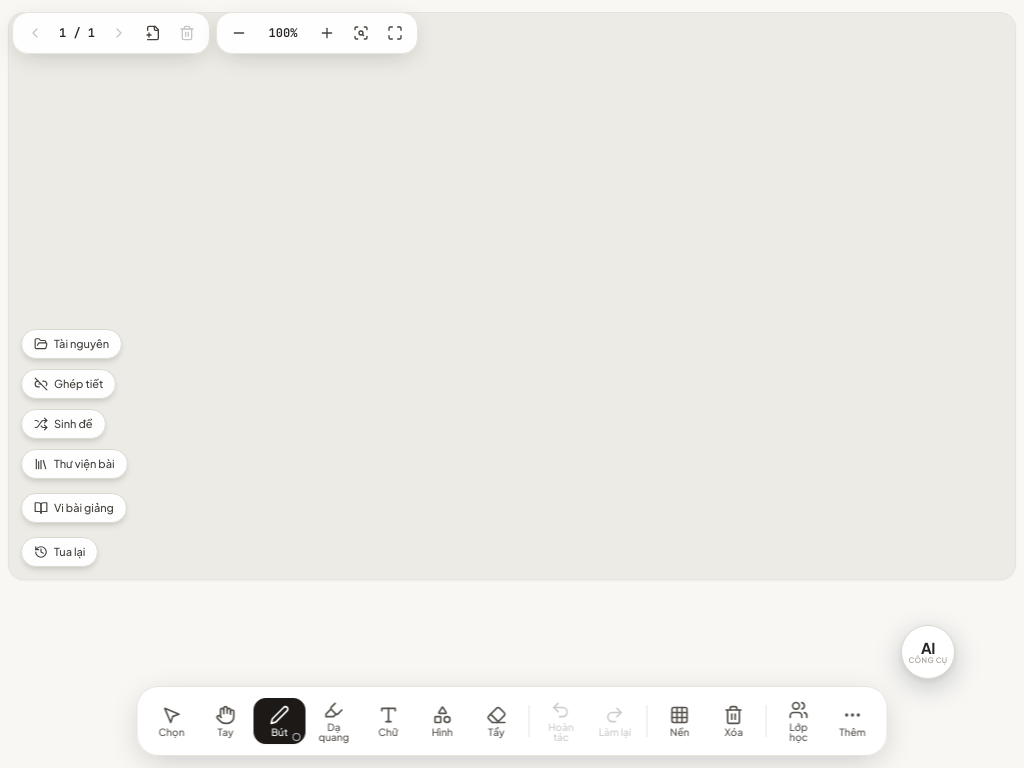
it: In-Place Geometry Transformation on Smartboard Canvas › Bật/Tắt Chế độ trực quan hình học tự động từ thanh tác vụ và hiển thị HUD banner
Note: Mở popover Hình
Step 1. Click the button with test id "tool-shape" → (442, 721), box [416,698,468,744]
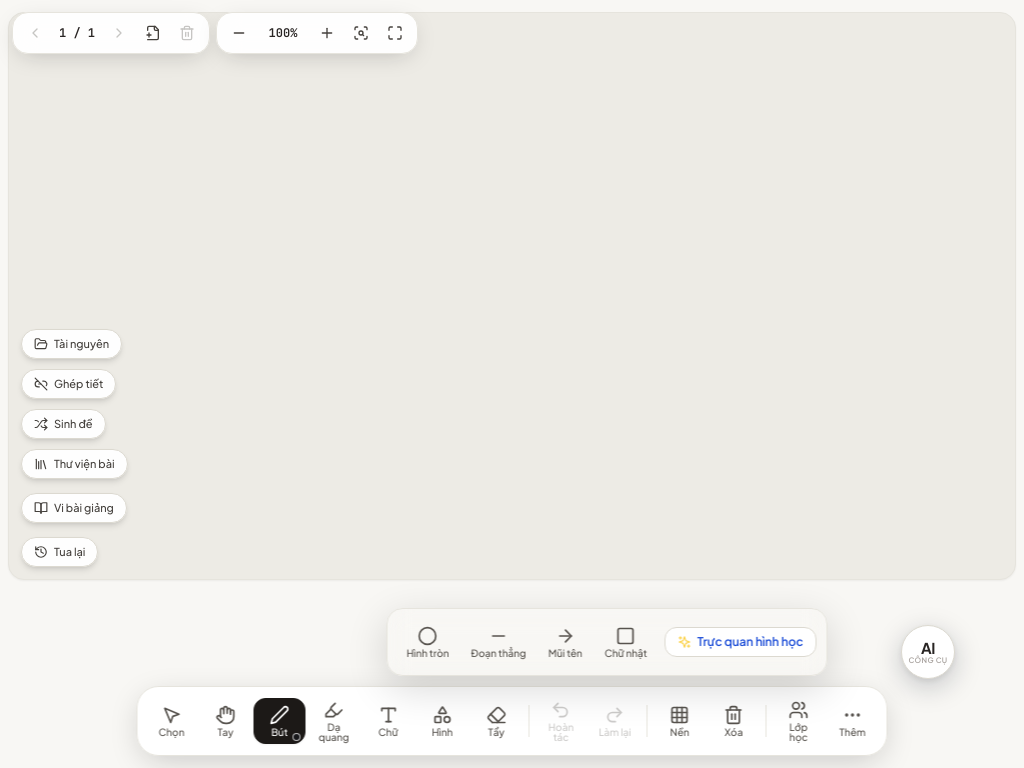
Expected: the button with test id "tool-geo-live-mode-toggle" is shown
Expected: the button with test id "tool-geo-live-mode-toggle" reads "Trực quan hình học"
Note:  Bấm BẬT
Step 2. Click the button with test id "tool-geo-live-mode-toggle" → (740, 642), box [664,627,816,657]
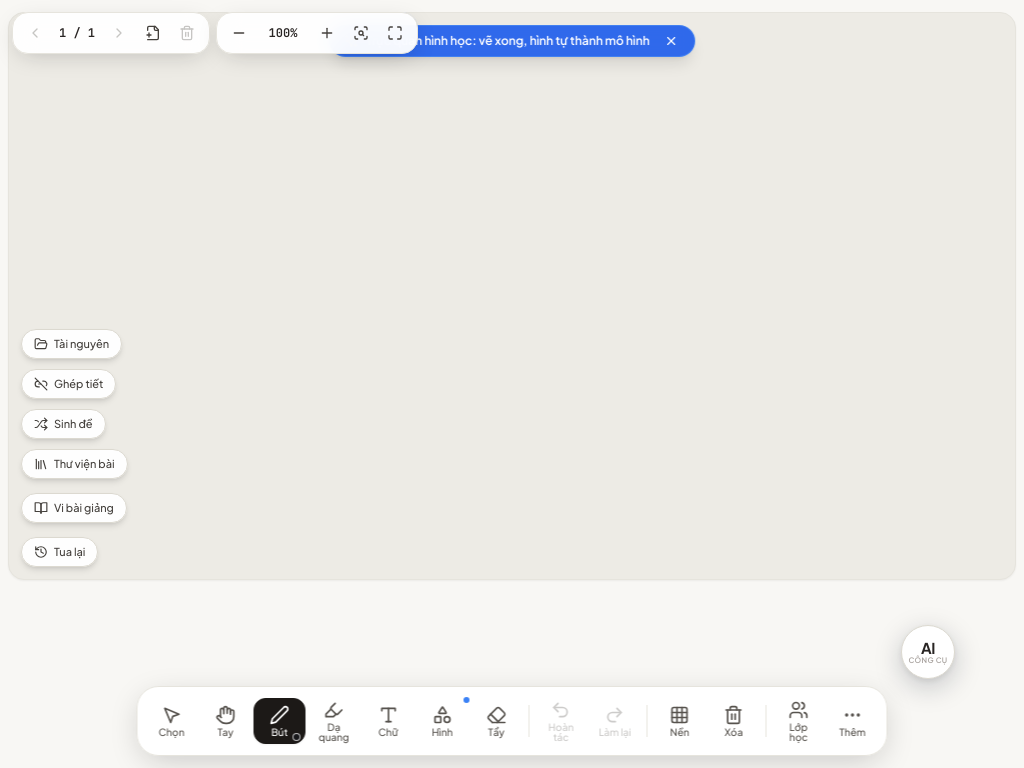
Expected: the element with test id "geo-live-mode-badge" is shown, [329,25,695,57]
Expected: the element with test id "geo-live-mode-badge" shows "Trực quan hình học", [366,33,650,48]
Expected: the element with test id "dock-geo-live-indicator" is shown, [461,695,471,705]
Note: Bấm tắt từ nút X trên banner
Step 3. Click the button with test id "geo-live-mode-close" → (671, 41), box [662,32,680,50]
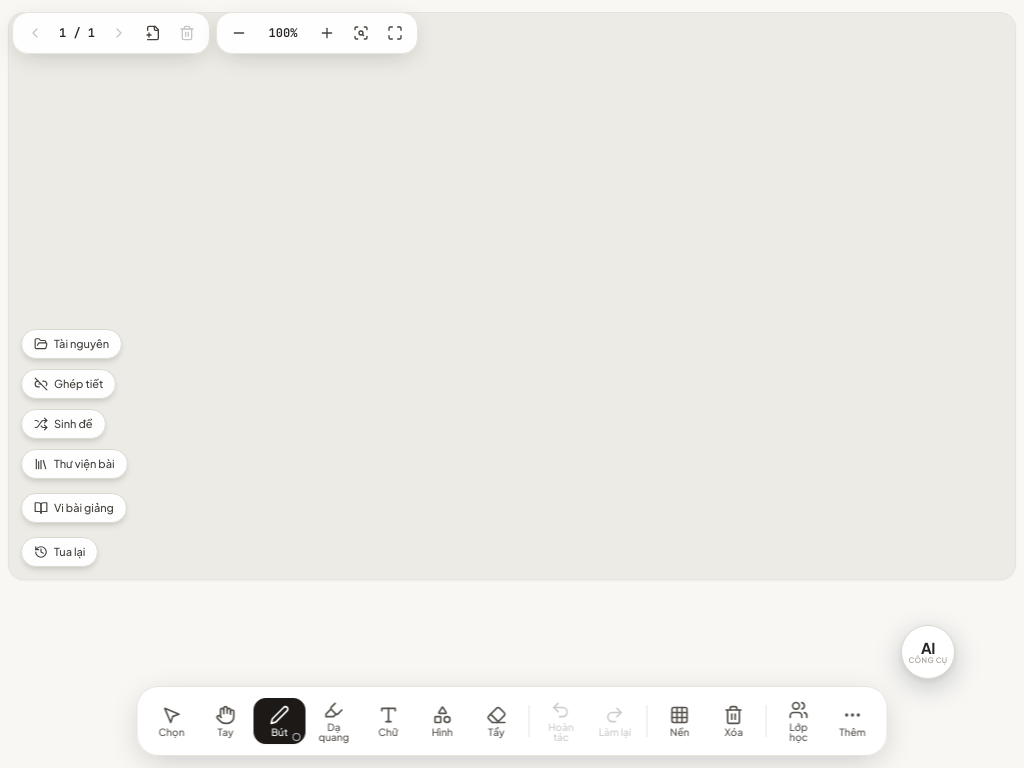
Expected: the element with test id "geo-live-mode-badge" is gone
